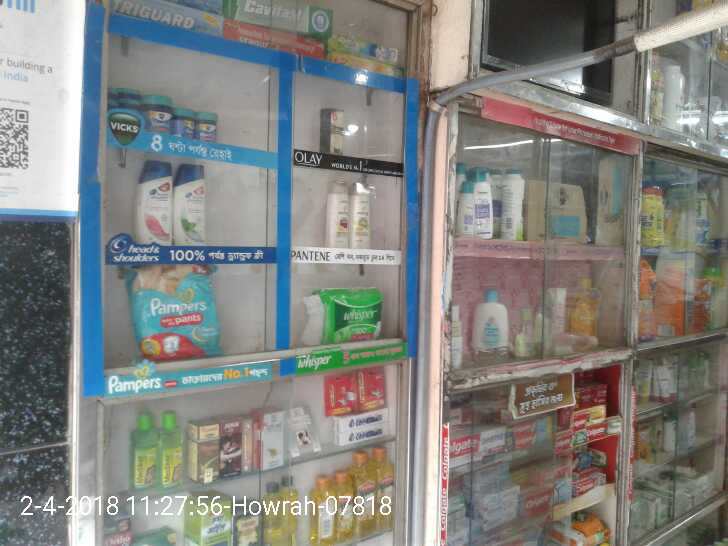vicks: (104, 79, 218, 144)
